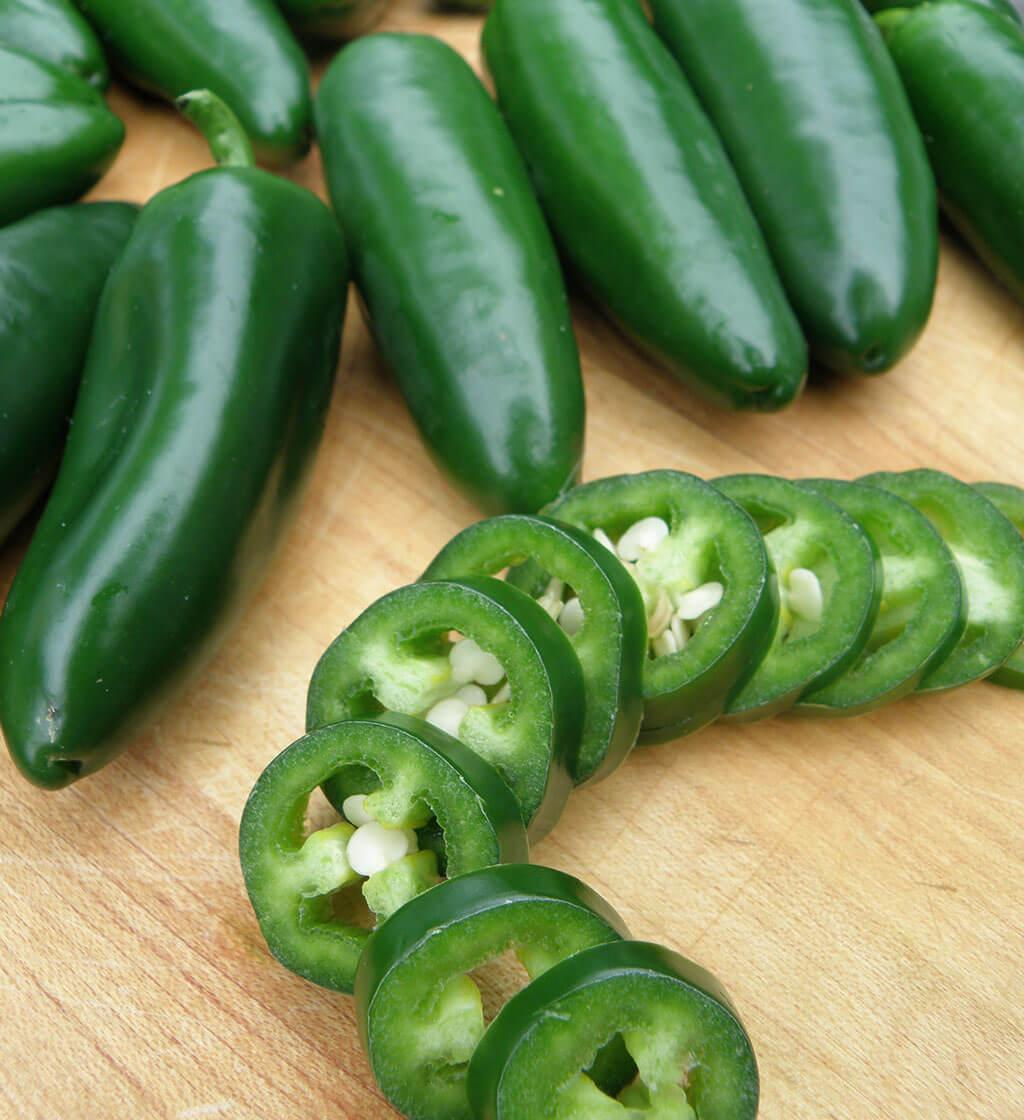jalepeno: (1, 0, 1022, 1115), (238, 463, 1022, 1117), (1, 88, 350, 790), (479, 0, 810, 413), (311, 28, 587, 513), (651, 0, 940, 377), (237, 713, 531, 995), (351, 861, 632, 1117), (303, 577, 562, 848), (533, 467, 778, 745), (465, 941, 760, 1118), (0, 197, 141, 540), (870, 0, 1022, 304), (703, 470, 881, 723), (788, 474, 965, 717), (77, 0, 312, 167), (857, 465, 1022, 693), (0, 0, 124, 220)
